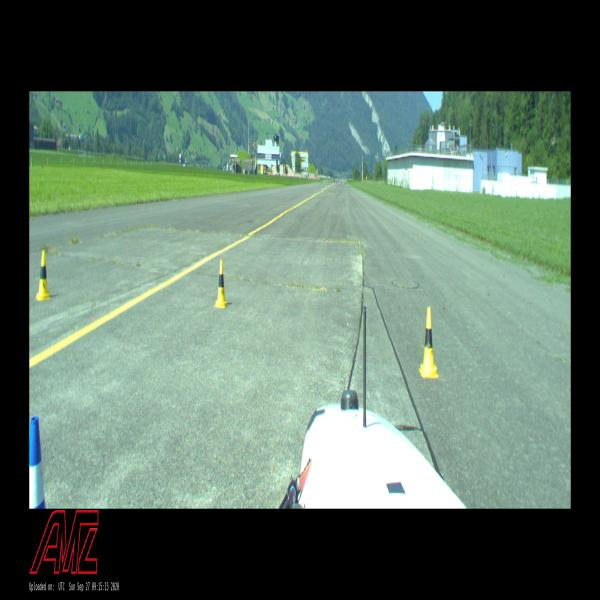blue_cone: (29, 417, 46, 508)
yellow_cone: (419, 307, 439, 378), (36, 250, 50, 300), (214, 259, 228, 308)
